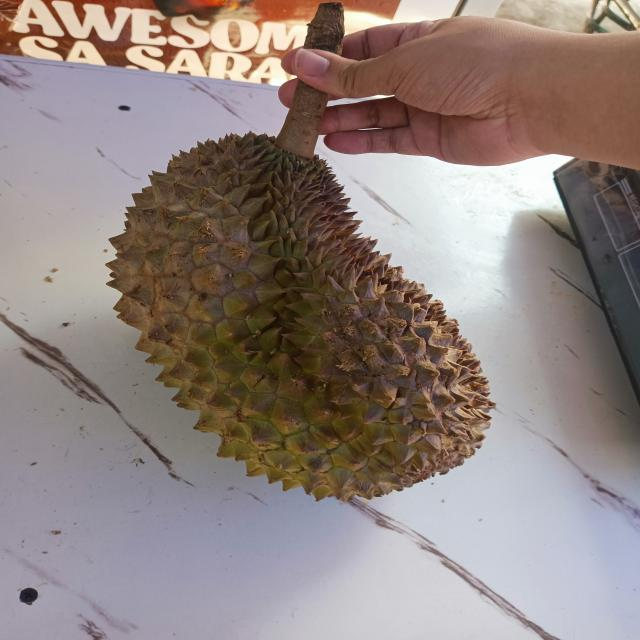mature: (104, 123, 520, 517)
